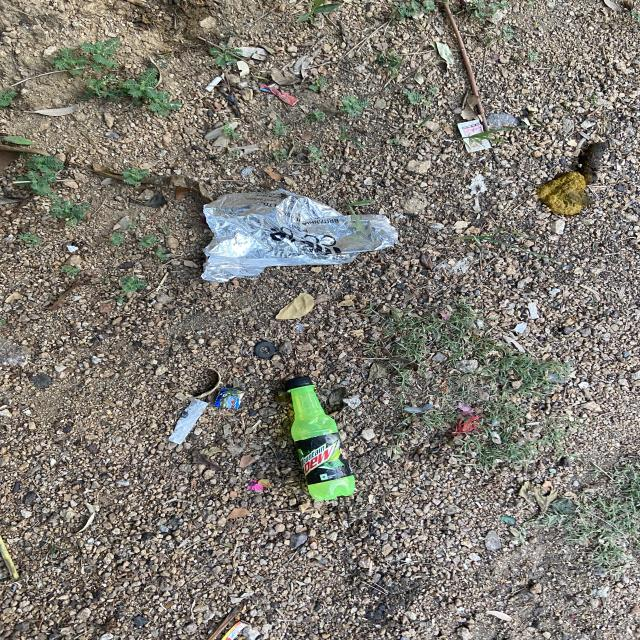chai_nhua: (285, 377, 354, 501)
giay: (458, 119, 484, 137), (464, 137, 492, 152)
giay_goi: (259, 83, 298, 105), (214, 388, 244, 410)
nhom: (201, 192, 399, 284)
rac_huu_co: (537, 141, 609, 215)
